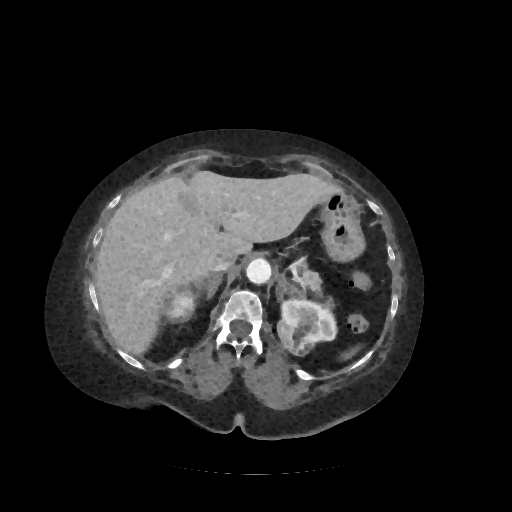Lesion: (275, 319, 315, 359)
